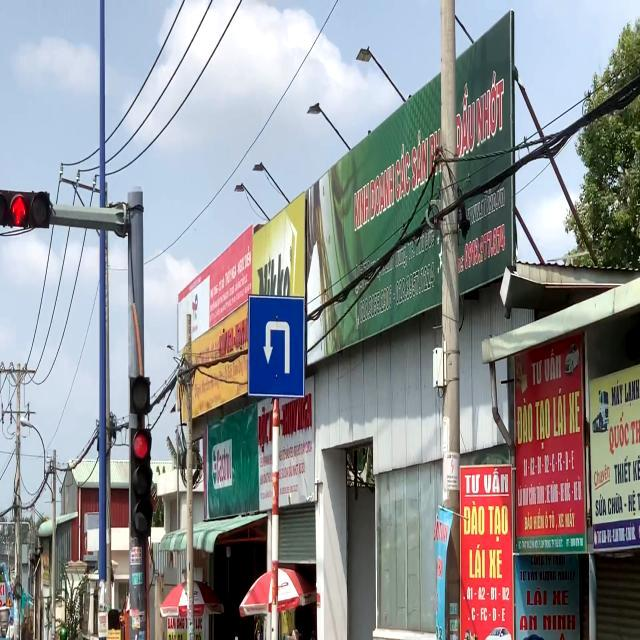Cho quay xe: (248, 292, 305, 399)
